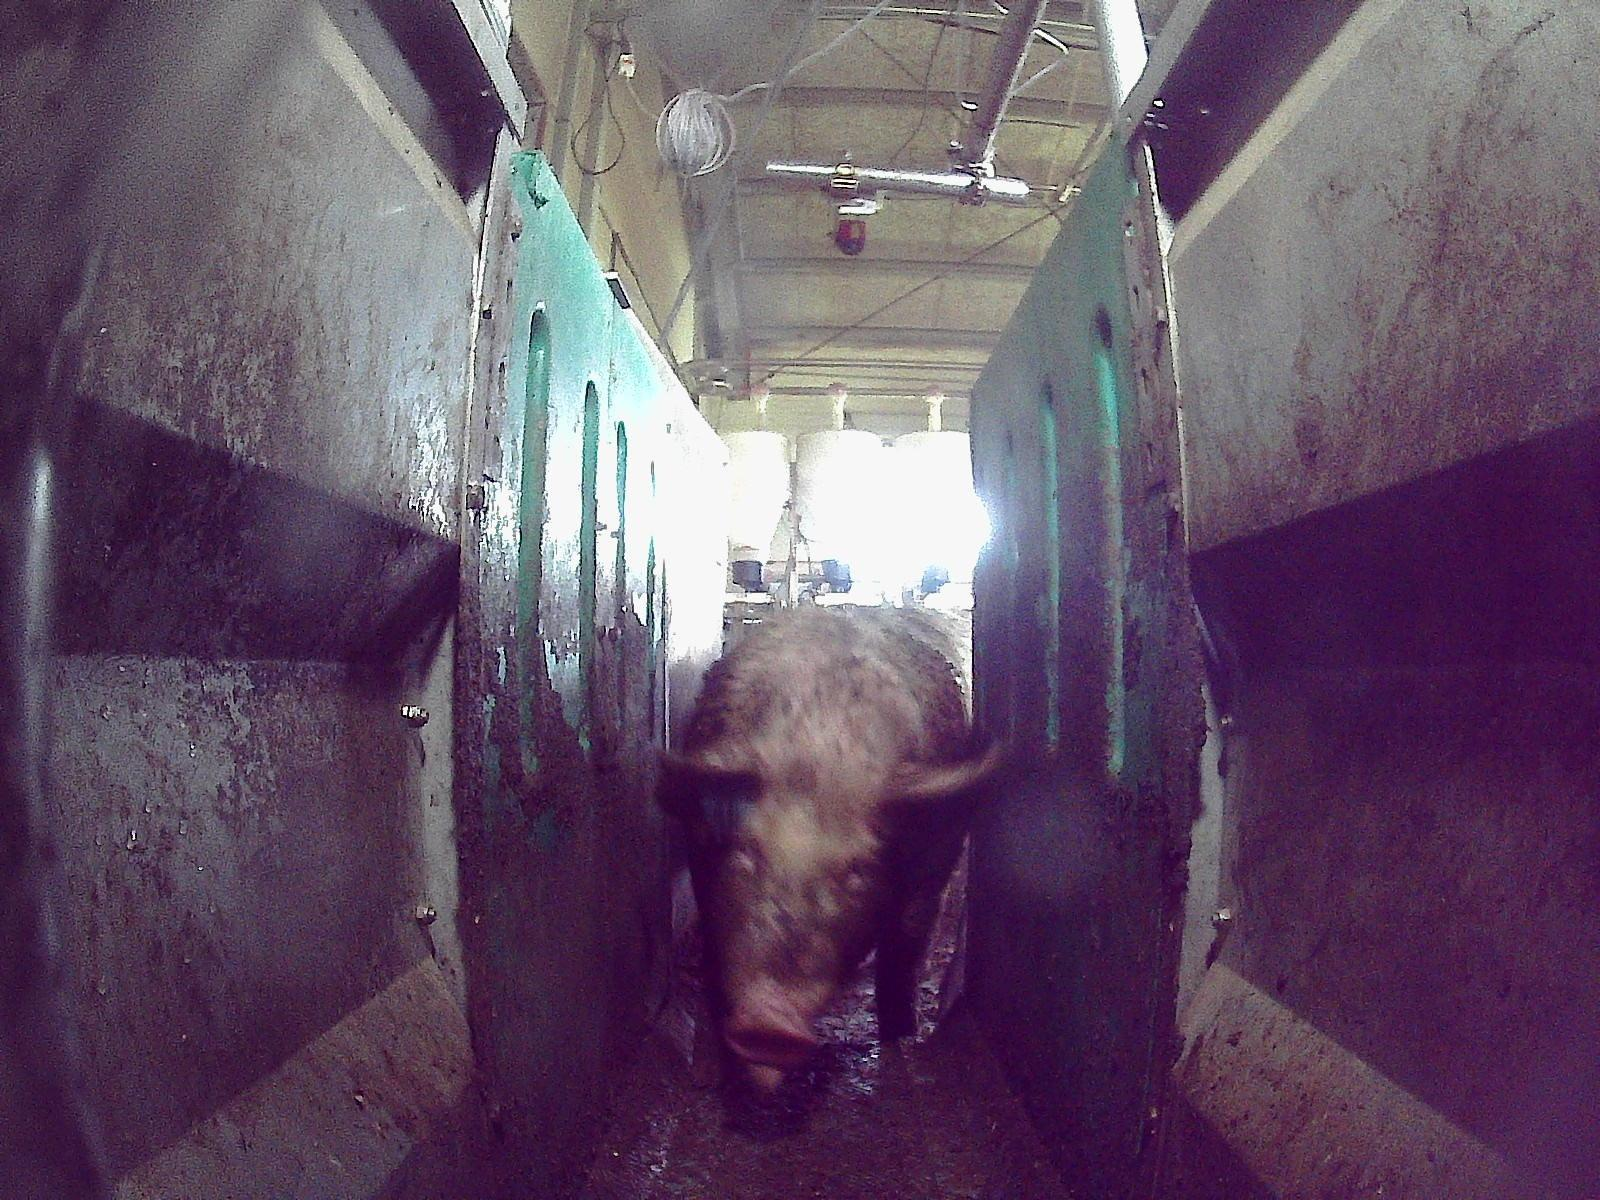Face: (704, 764, 892, 1062)
